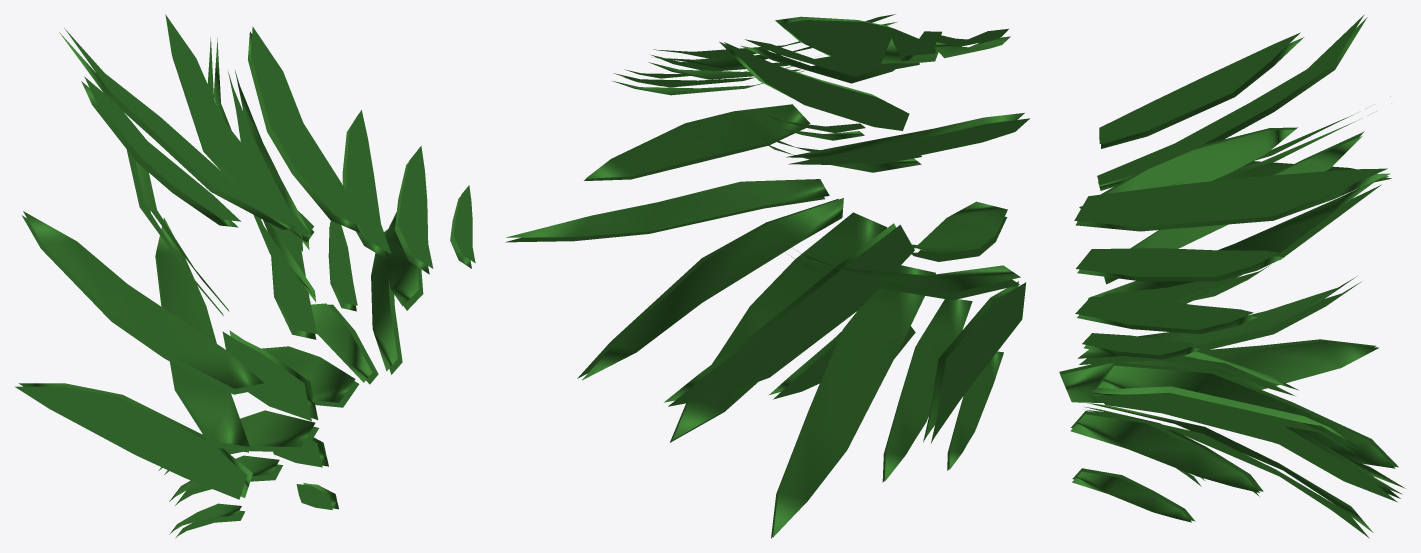
The model's file is Grass_01.FBX.
The picture shows the model from 3 angles, left to right: view 1: azimuth 30°, elevation 25°; view 2: azimuth 150°, elevation 25°; view 3: azimuth 270°, elevation 25°; orthographic projection. The views are drawn at different scales.
Visible parts, largest first — view 1: SM_Grass_Clump_01; view 2: SM_Grass_Clump_01; view 3: SM_Grass_Clump_01.
Boxes of the visible parts, x1,y1,x2,y2 form: SM_Grass_Clump_01: [15, 14, 475, 538]; SM_Grass_Clump_01: [505, 14, 1029, 538]; SM_Grass_Clump_01: [1059, 14, 1405, 538].
Size of the model in its own units: 76.95 by 90.02 by 59.71.
